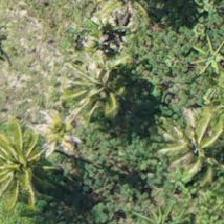coconut_tree: (0, 116, 54, 206)
